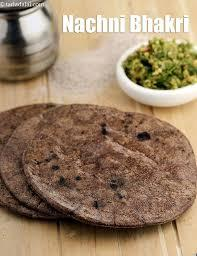bhakri: (28, 99, 197, 232), (6, 104, 132, 214), (1, 90, 101, 226)
